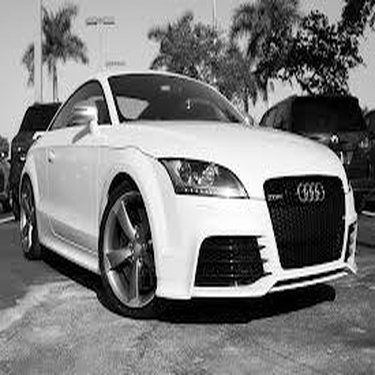car: (16, 66, 364, 324), (242, 91, 373, 209), (7, 98, 101, 224)
